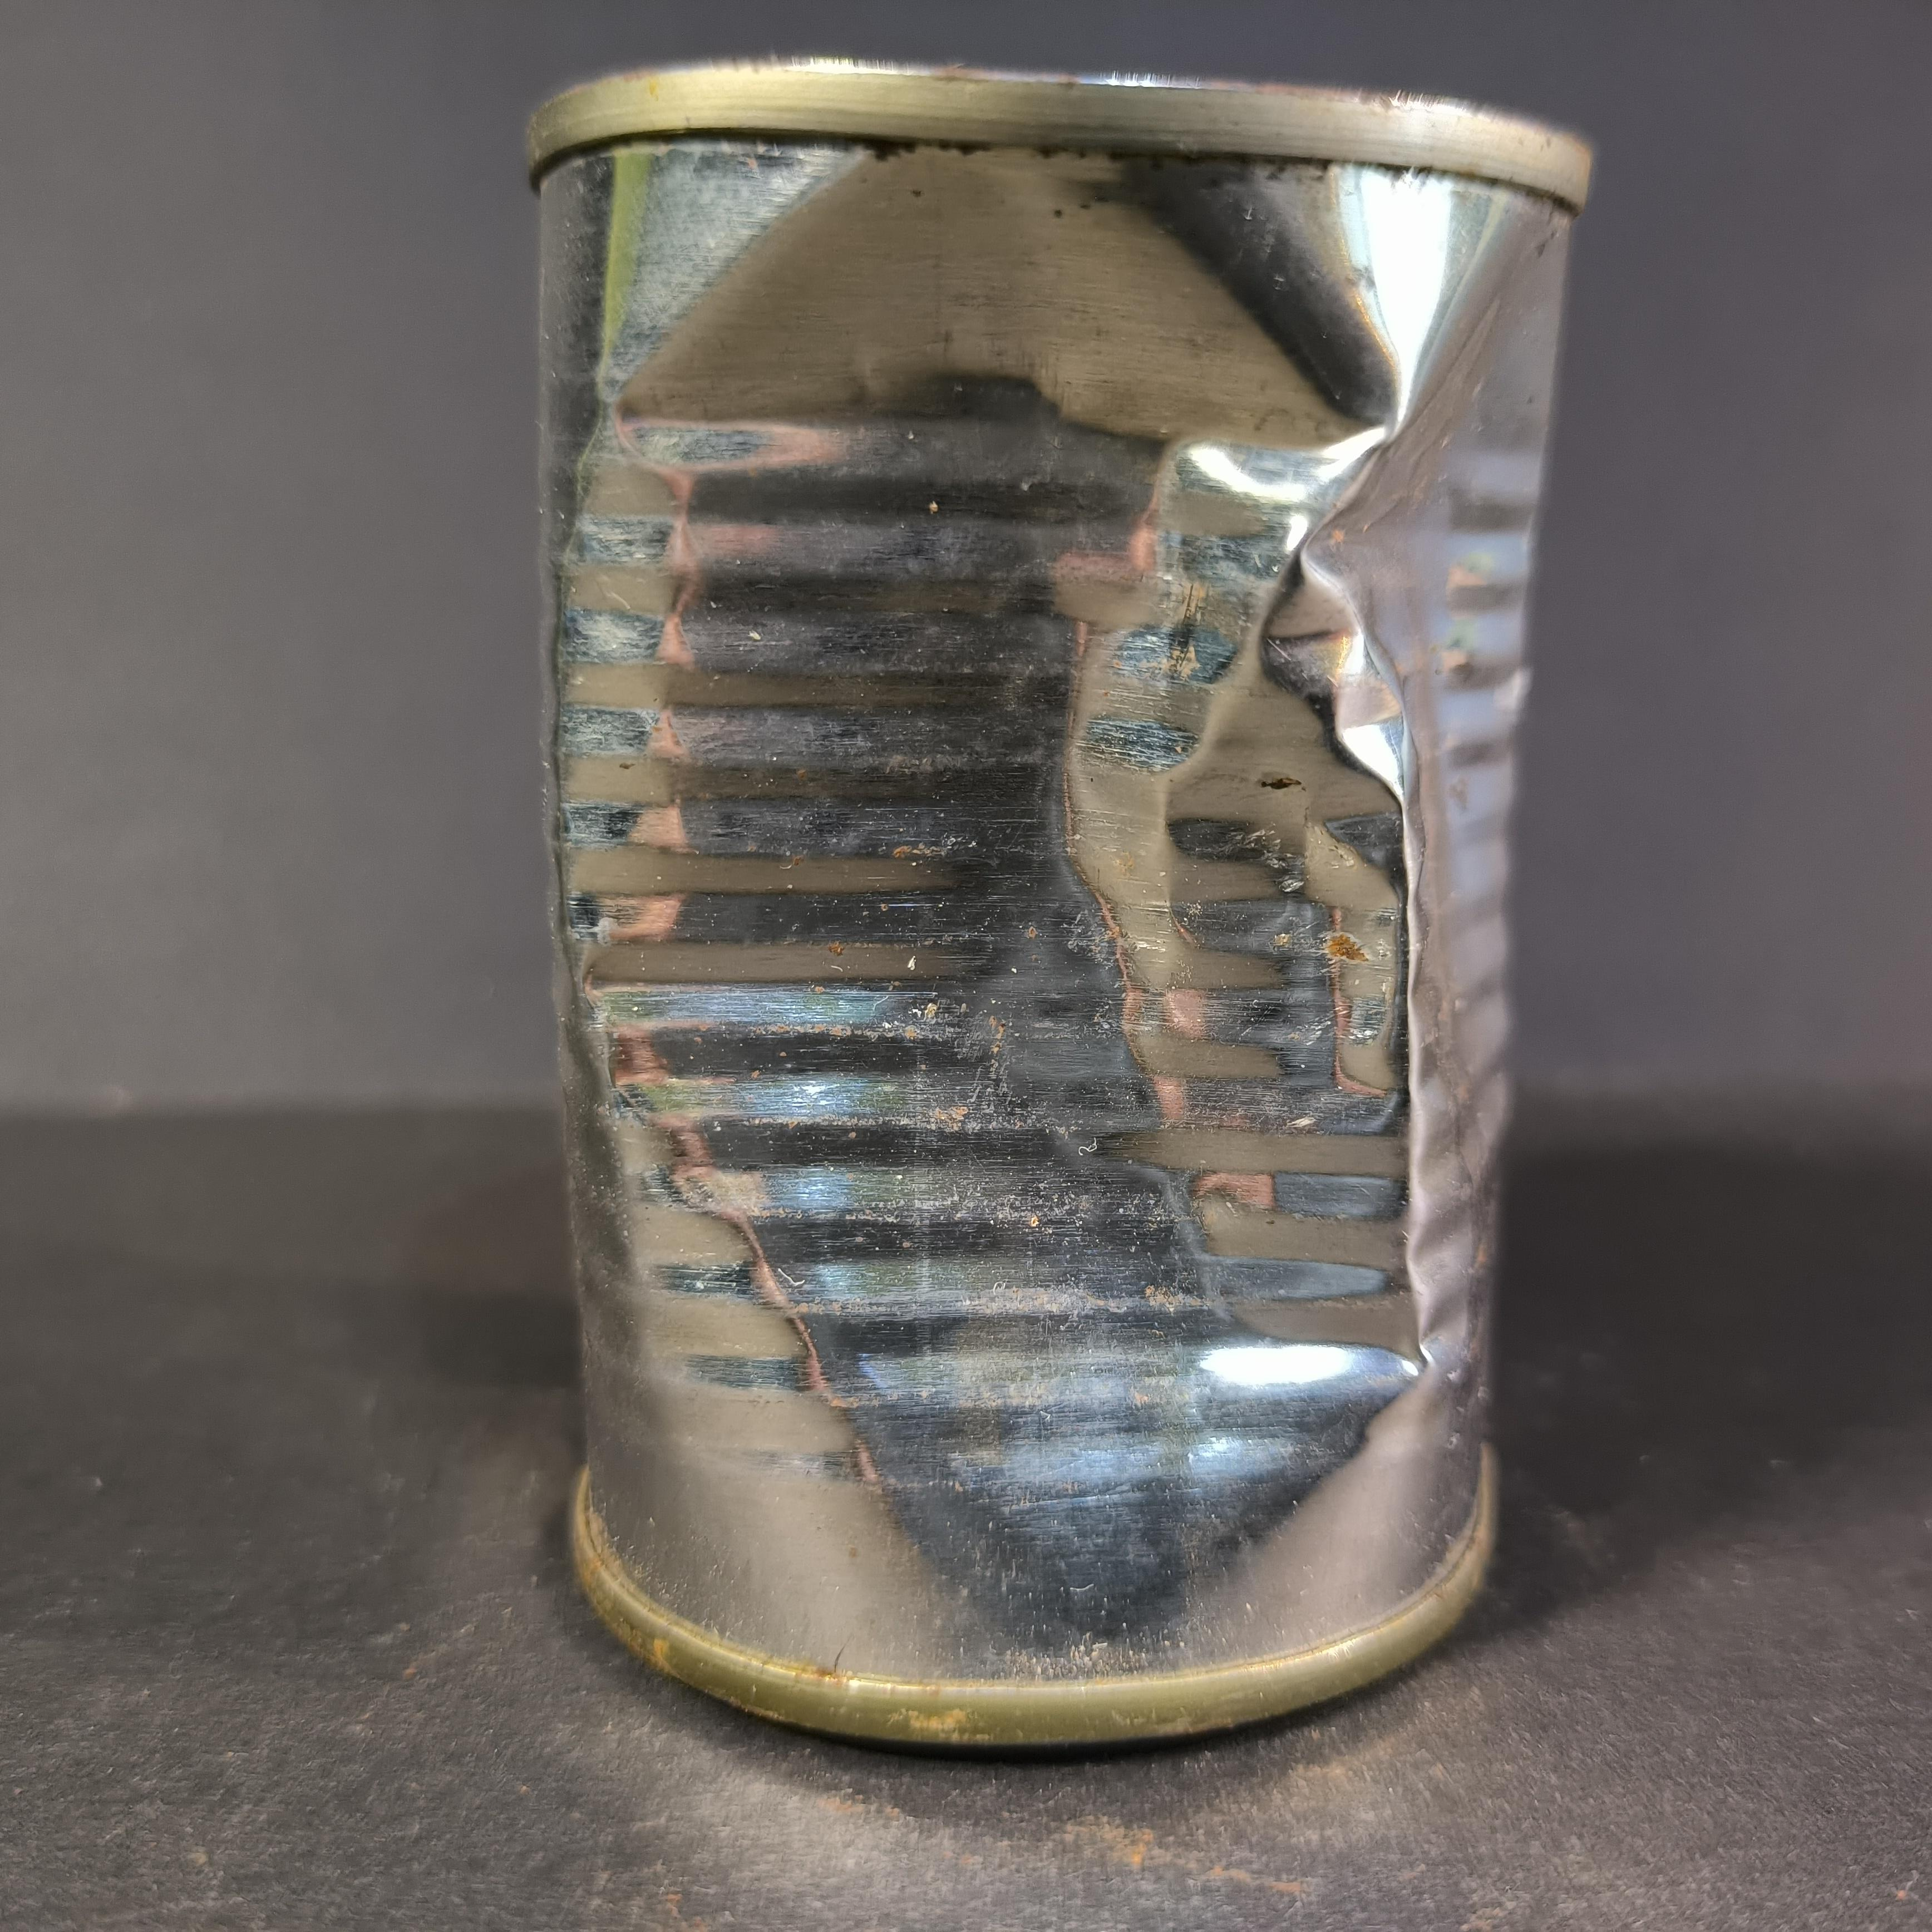Dented: (456, 23, 1661, 1787)
